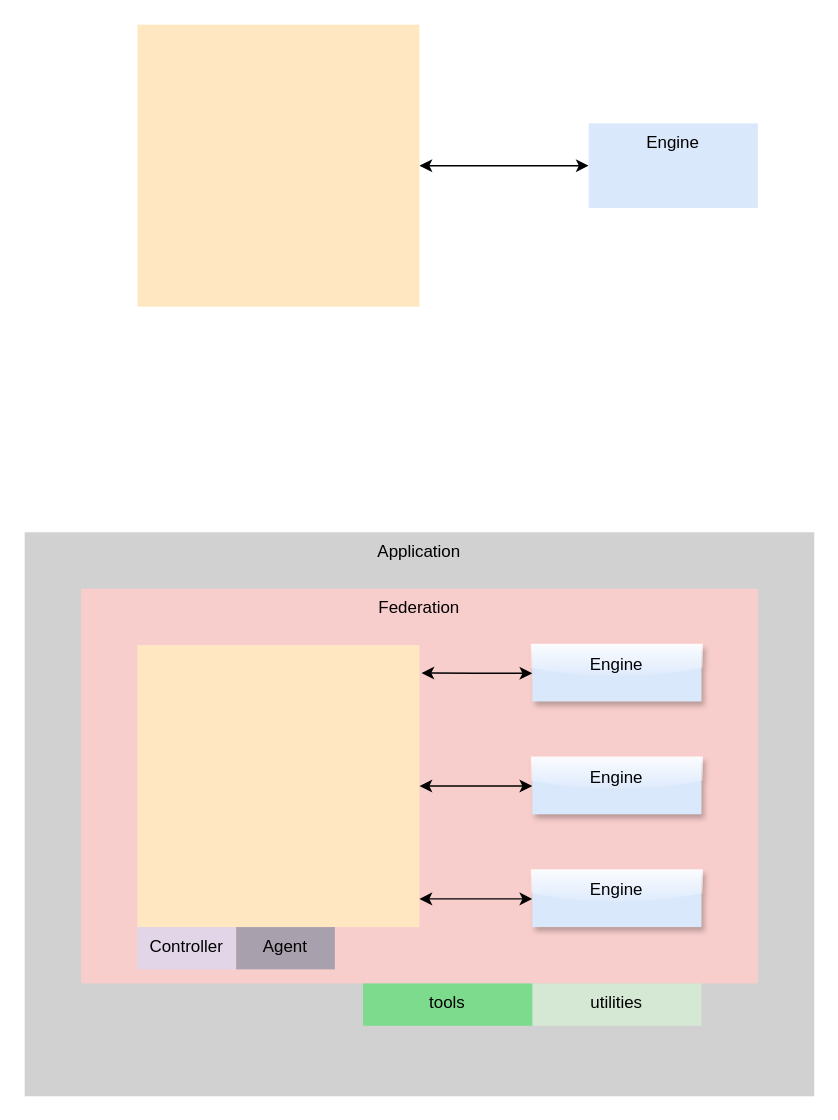
Some shapes in this 838 by 1120 pixel diagram are drawn without their labels. The shapes that lost their labels are listed below. From the top down, each one's centre as x and y in pixels, then its label:
At pixel 278 165: "(Software) System".
At pixel 278 785: "Simulator".
